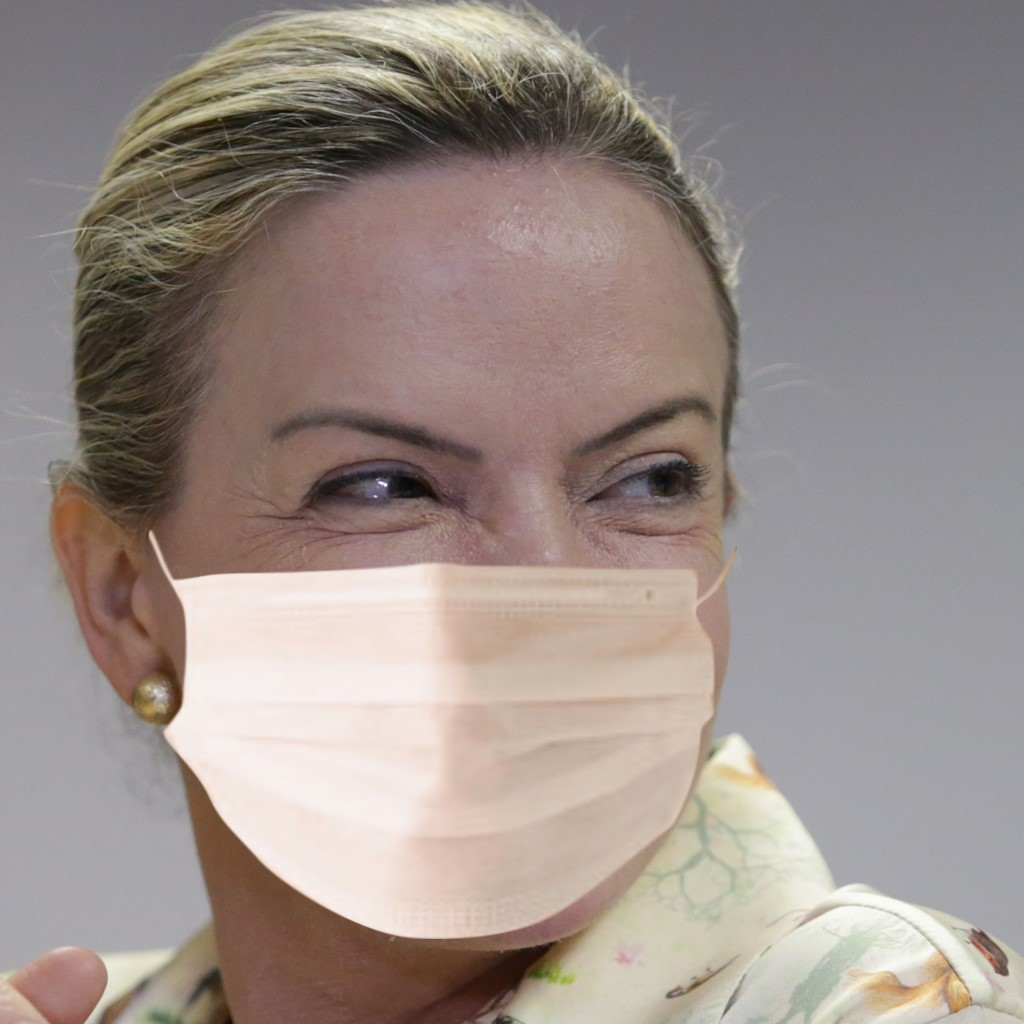con_mascara: (87, 82, 735, 916)
